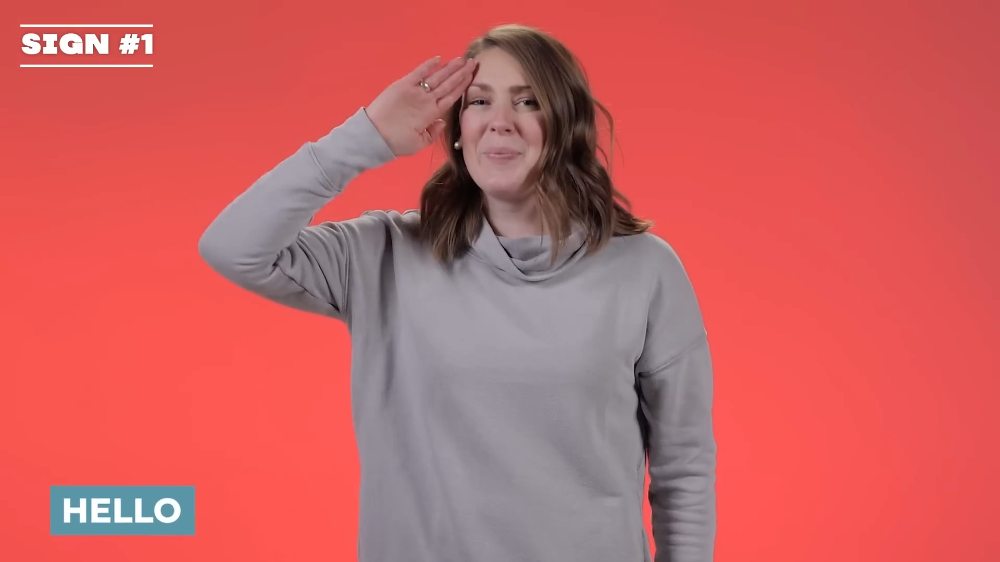hello: (370, 46, 482, 149)
